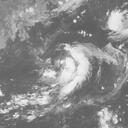cyclone: (39, 43, 89, 94)
